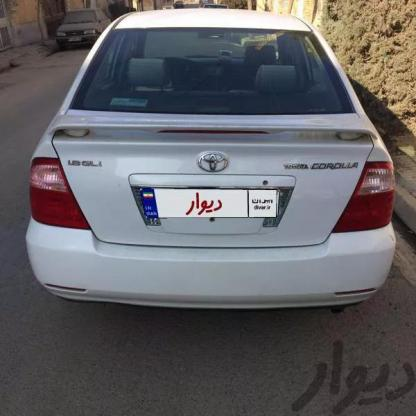Car: (11, 0, 387, 345), (51, 0, 122, 57)
